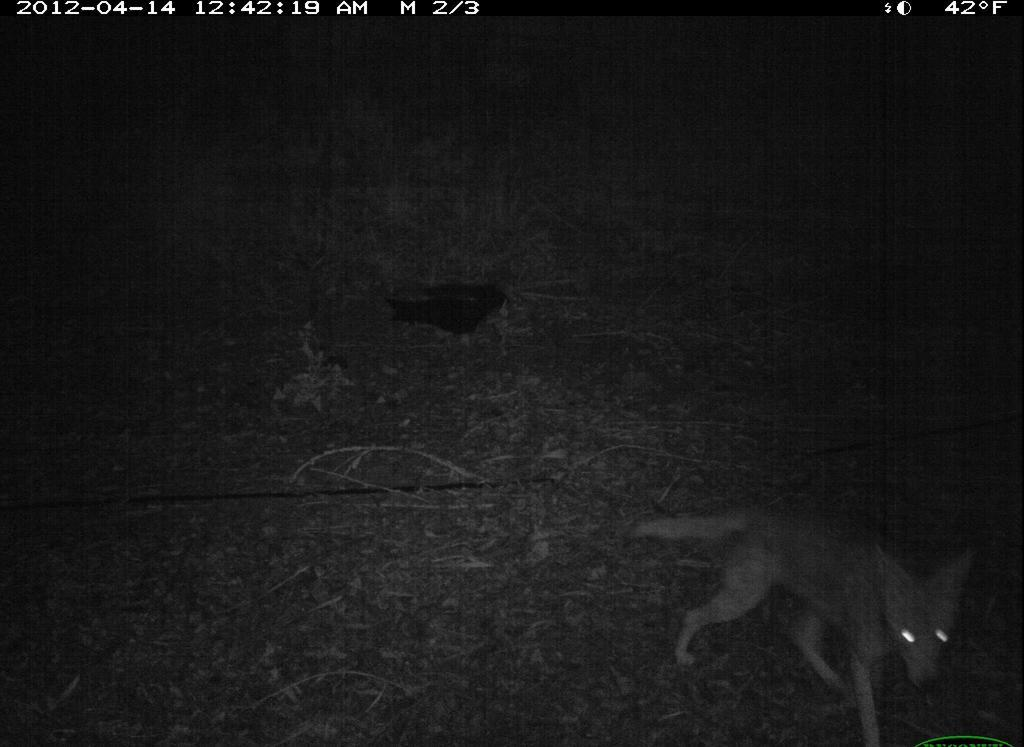coyote: (615, 477, 958, 742)
